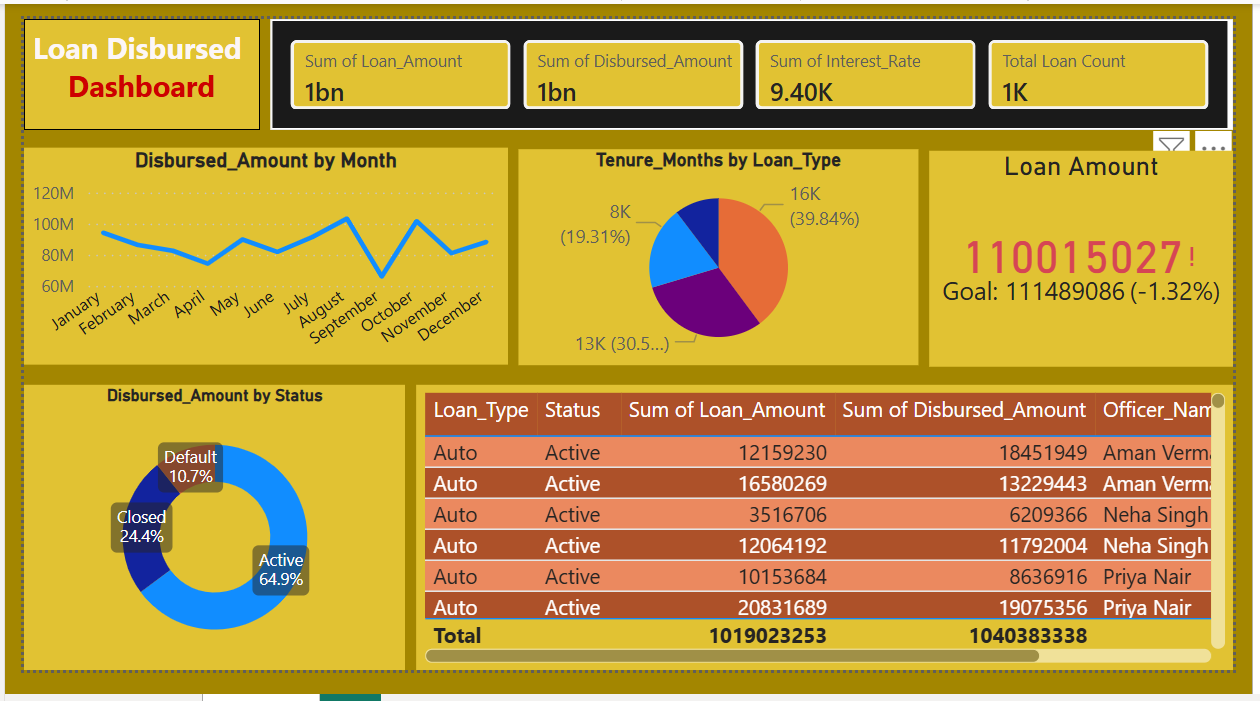

The dashboard page shown, as its layout file describes it:
{"tool":"powerbi","page":{"name":"Page 1","canvas":[780,420],"ordinal":0},"visuals":[{"type":"textbox","box":[0,0,152,71],"z":0},{"type":"cardVisual","fields":{"Data":["Sum(Fact_LoanDisbursement.Loan_Amount)","Sum(Fact_LoanDisbursement.Disbursed_Amount)","Sum(Fact_LoanDisbursement.Interest_Rate)","Dax_Table.Total Loan Count"]},"box":[159,0,621,71],"z":1000},{"type":"lineChart","title":"Disbursed_Amount by Month","fields":{"Category":["Fact_LoanDisbursement.Disbursement_Date.Variation.Date Hierarchy.Month"],"Y":["Sum(Fact_LoanDisbursement.Disbursed_Amount)"]},"box":[0,83,312,140],"z":2000},{"type":"pieChart","title":"Tenure_Months by Loan_Type","fields":{"Category":["Fact_LoanDisbursement.Loan_Type"],"Y":["Sum(Fact_LoanDisbursement.Tenure_Months)"]},"box":[319,84,258,139],"z":3000},{"type":"donutChart","title":"Disbursed_Amount by Status","fields":{"Category":["Fact_LoanDisbursement.Status"],"Y":["Sum(Fact_LoanDisbursement.Disbursed_Amount)"]},"box":[0,236,246,184],"z":4000},{"type":"tableEx","fields":{"Values":["Fact_LoanDisbursement.Loan_Type","Fact_LoanDisbursement.Status","Sum(Fact_LoanDisbursement.Loan_Amount)","Sum(Fact_LoanDisbursement.Disbursed_Amount)","Dim_LoanOfficer.Officer_Name","Dim_Customer.Gender","Dim_LoanOfficer.Branch_ID"]},"box":[253,236,527,184],"z":5000},{"type":"kpi","title":"Loan Amount ","fields":{"TrendLine":["Fact_LoanDisbursement.Status"],"Indicator":["Sum(Fact_LoanDisbursement.Loan_Amount)"],"Goal":["Sum(Fact_LoanDisbursement.Disbursed_Amount)"]},"box":[584,85,196,139],"z":6000}]}

Visuals, with their boxes on the page's 780x420 design canvas (x1, y1, x2, y2). These are canvas units, not pixel positions in the 1260x701 screenshot, which may show the page scaled, cropped or inside an application window:
textbox: bbox=[0, 0, 152, 71]
cardVisual - Sum(Fact_LoanDisbursement.Loan_Amount) x Sum(Fact_LoanDisbursement.Disbursed_Amount): bbox=[159, 0, 780, 71]
"Disbursed_Amount by Month" lineChart: bbox=[0, 83, 312, 223]
"Tenure_Months by Loan_Type" pieChart: bbox=[319, 84, 577, 223]
"Disbursed_Amount by Status" donutChart: bbox=[0, 236, 246, 420]
tableEx - Fact_LoanDisbursement.Loan_Type x Fact_LoanDisbursement.Status: bbox=[253, 236, 780, 420]
"Loan Amount " kpi: bbox=[584, 85, 780, 224]
